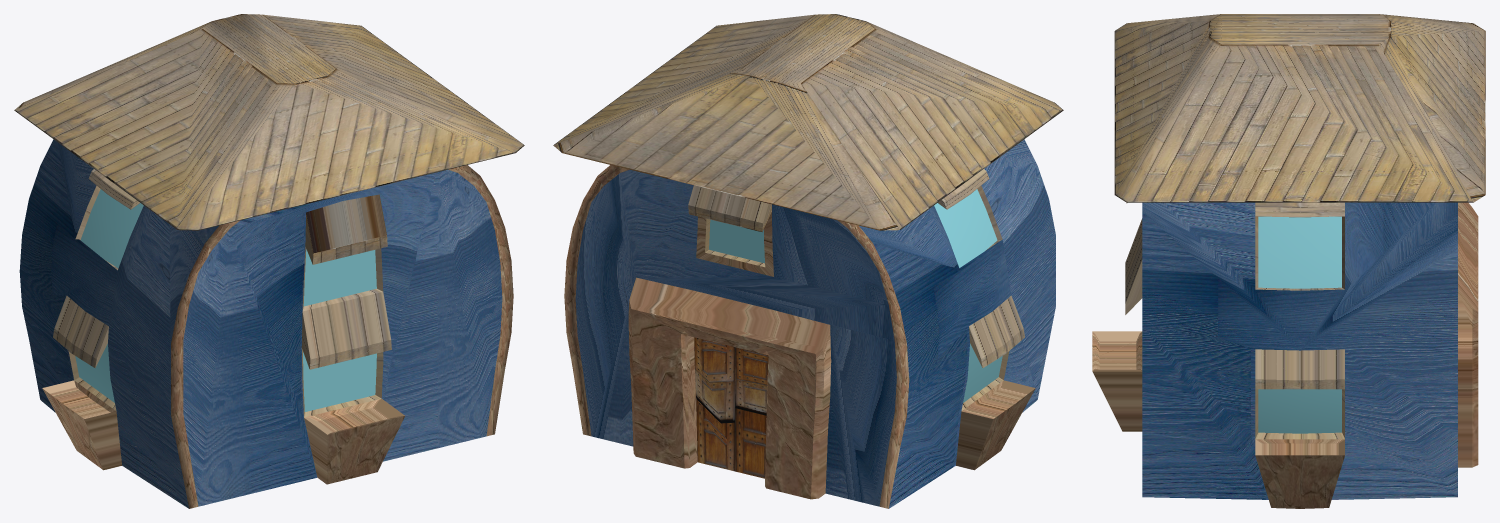
File: blue_house.fbx
The picture shows the model from 3 angles, left to right: view 1: azimuth 30°, elevation 25°; view 2: azimuth 150°, elevation 25°; view 3: azimuth 270°, elevation 25°; orthographic projection. The views are drawn at different scales.
Parts seen in each view (by area): view 1: pCube3; view 2: pCube3; view 3: pCube3.
Boxes of the visible parts, x1=… form: pCube3: x1=14, y1=14, x2=524, y2=508; pCube3: x1=553, y1=14, x2=1063, y2=508; pCube3: x1=1092, y1=14, x2=1485, y2=508.
Size of the model in its own units: 10.84 by 9.36 by 8.56.
6 materials, 4 textured.
